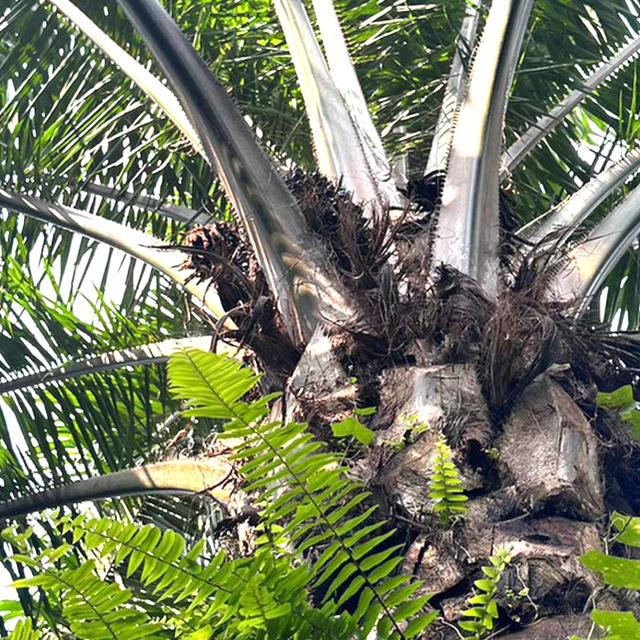almost: (278, 157, 387, 293)
